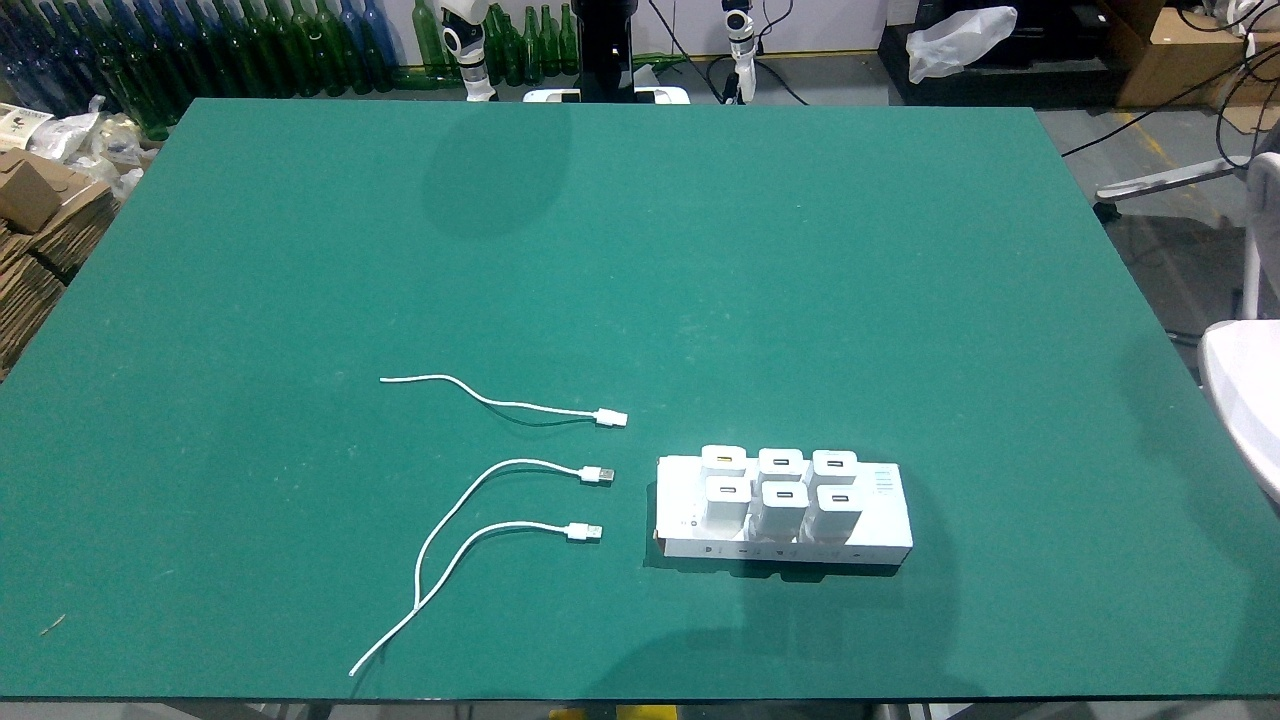usb_a_port: (774, 487, 797, 500), (714, 454, 736, 466), (824, 459, 848, 469), (830, 493, 853, 503), (771, 457, 791, 468), (718, 485, 737, 495)
